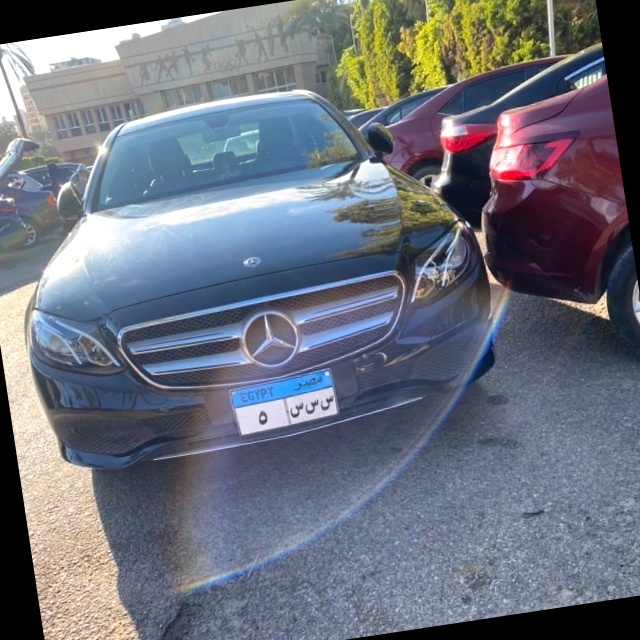License Plate: (225, 366, 344, 442)
